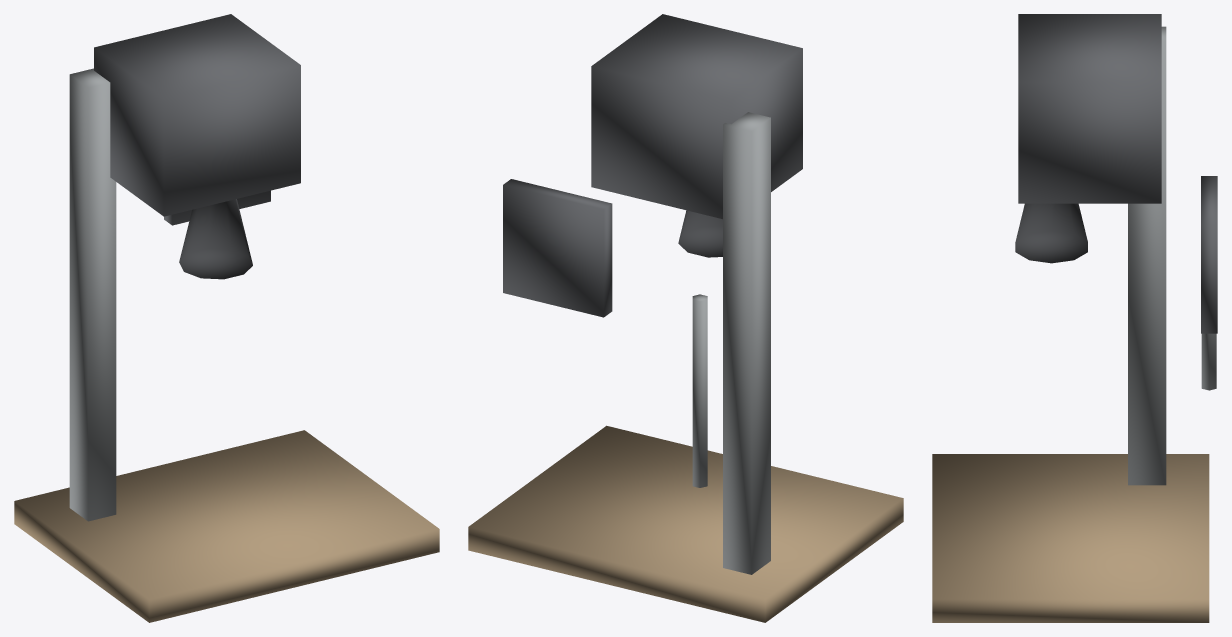
File: photo_enlarger__service.glb
3 views of the same model, side by side, from view 1: azimuth 30°, elevation 25°; view 2: azimuth 150°, elevation 25°; view 3: azimuth 270°, elevation 25° (orthographic). The views are drawn at different scales.
Visible parts, largest first — view 1: world; view 2: world; view 3: world.
Part boxes in pixels (x1,y1,x2,y2): world: (14,14,439,622); world: (468,14,903,622); world: (932,14,1217,622).
Bounding box in the file's own units: 0.72 × 1.14 × 0.5975.
